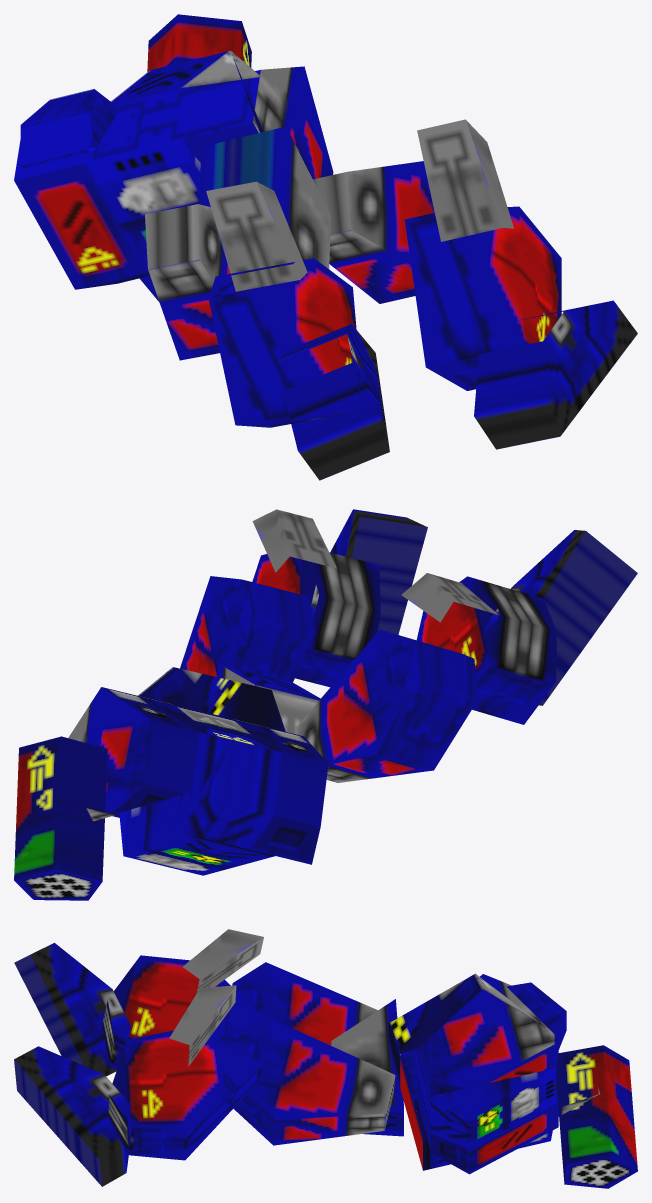
The model's file is thor_wreck_backward.glb.
3 renders of one model, top to bottom at view 1: azimuth 30°, elevation 25°; view 2: azimuth 150°, elevation 25°; view 3: azimuth 270°, elevation 25°, orthographic. The views are drawn at different scales.
Parts seen in each view (by area): view 1: th_llleg; view 2: th_llleg; view 3: th_llleg.
Part boxes in pixels (x1,y1,x2,y2): th_llleg: (14, 14, 637, 480); th_llleg: (14, 509, 637, 900); th_llleg: (14, 929, 637, 1188).
Bounding box in the file's own units: 5.81 × 4.23 × 12.56.
1 material, 1 textured.
